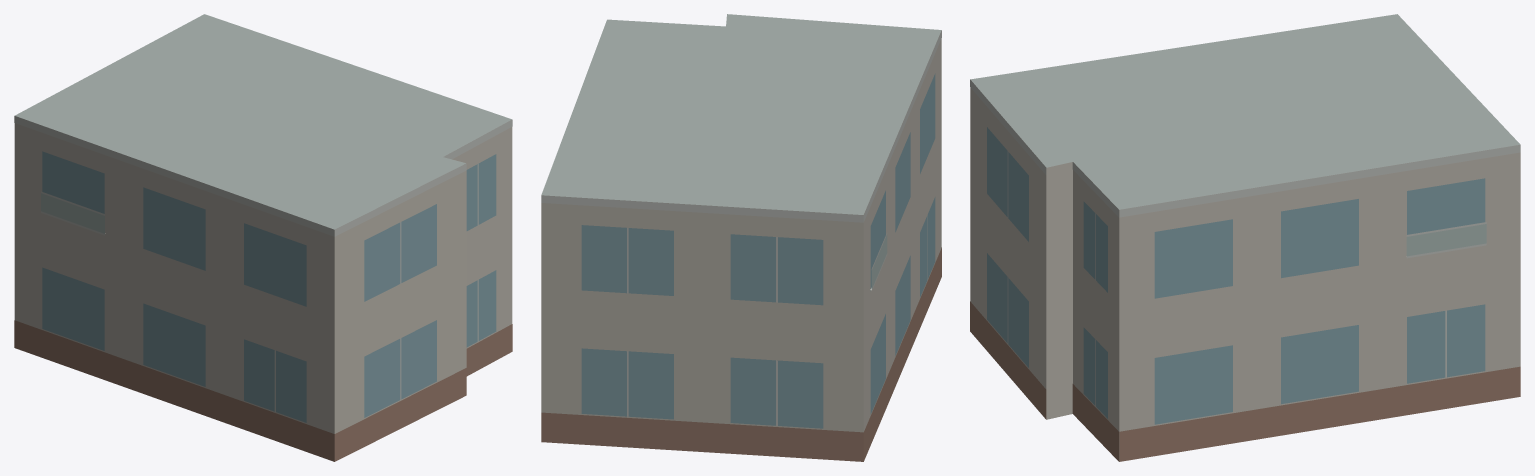
Rendered from survey-upis-32846612.glb.
3 views of the same model, side by side, from view 1: azimuth 30°, elevation 25°; view 2: azimuth 150°, elevation 25°; view 3: azimuth 270°, elevation 25° (orthographic). The views are drawn at different scales.
Visible parts, largest first — view 1: survey-upis-32846612.tmp; view 2: survey-upis-32846612.tmp; view 3: survey-upis-32846612.tmp.
Boxes of the visible parts, bbox=[...] form: survey-upis-32846612.tmp: bbox=[14, 14, 512, 461]; survey-upis-32846612.tmp: bbox=[541, 14, 941, 461]; survey-upis-32846612.tmp: bbox=[970, 14, 1520, 461].
Size of the model in its own units: 13.17 by 7.9 by 15.65.
